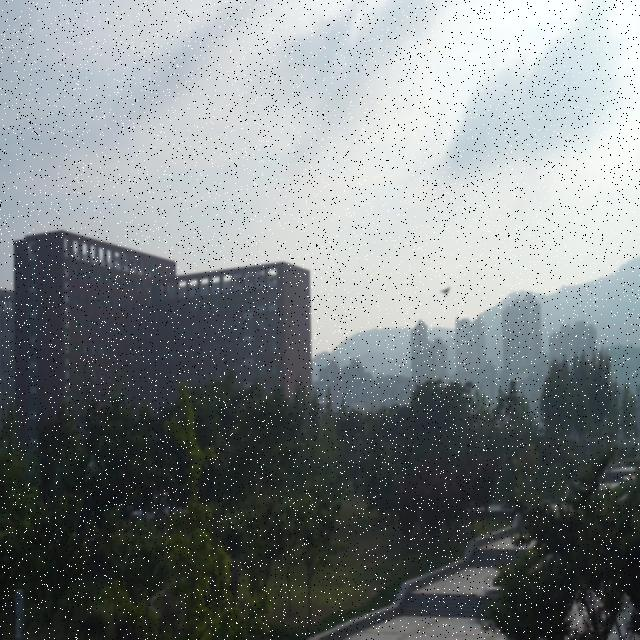UAV: (439, 286, 452, 298)
